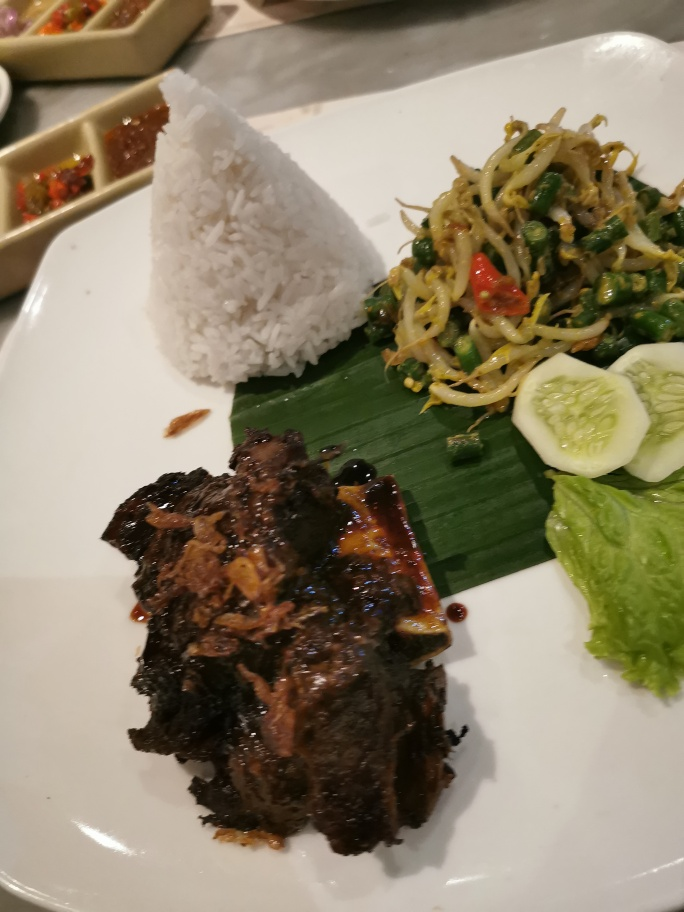iga bakar: (100, 417, 470, 866)
nasi putih: (121, 66, 390, 377)
